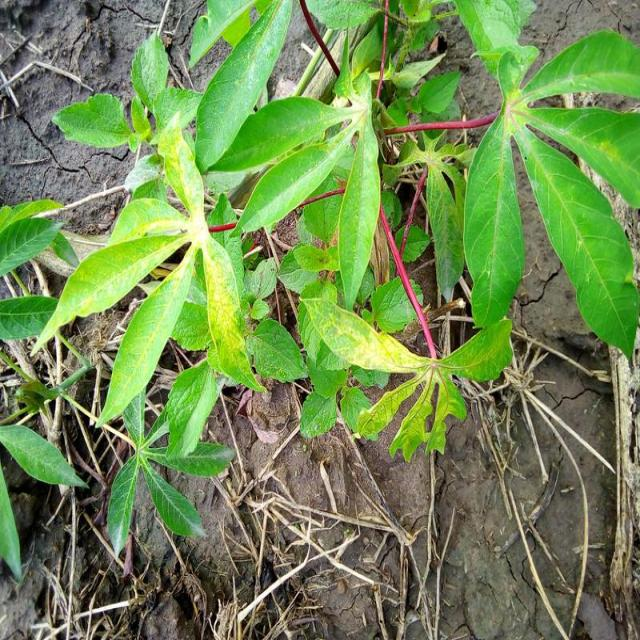cassava leaf: (3, 0, 639, 575)
